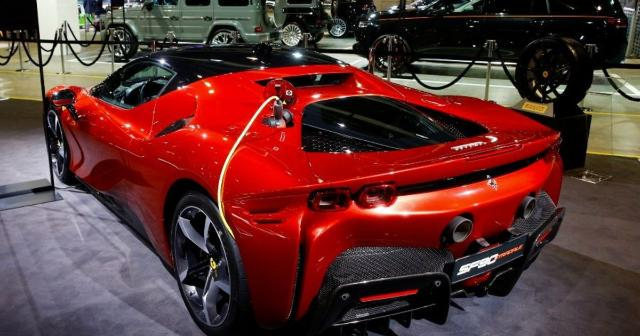ferrari: (42, 42, 566, 336)
